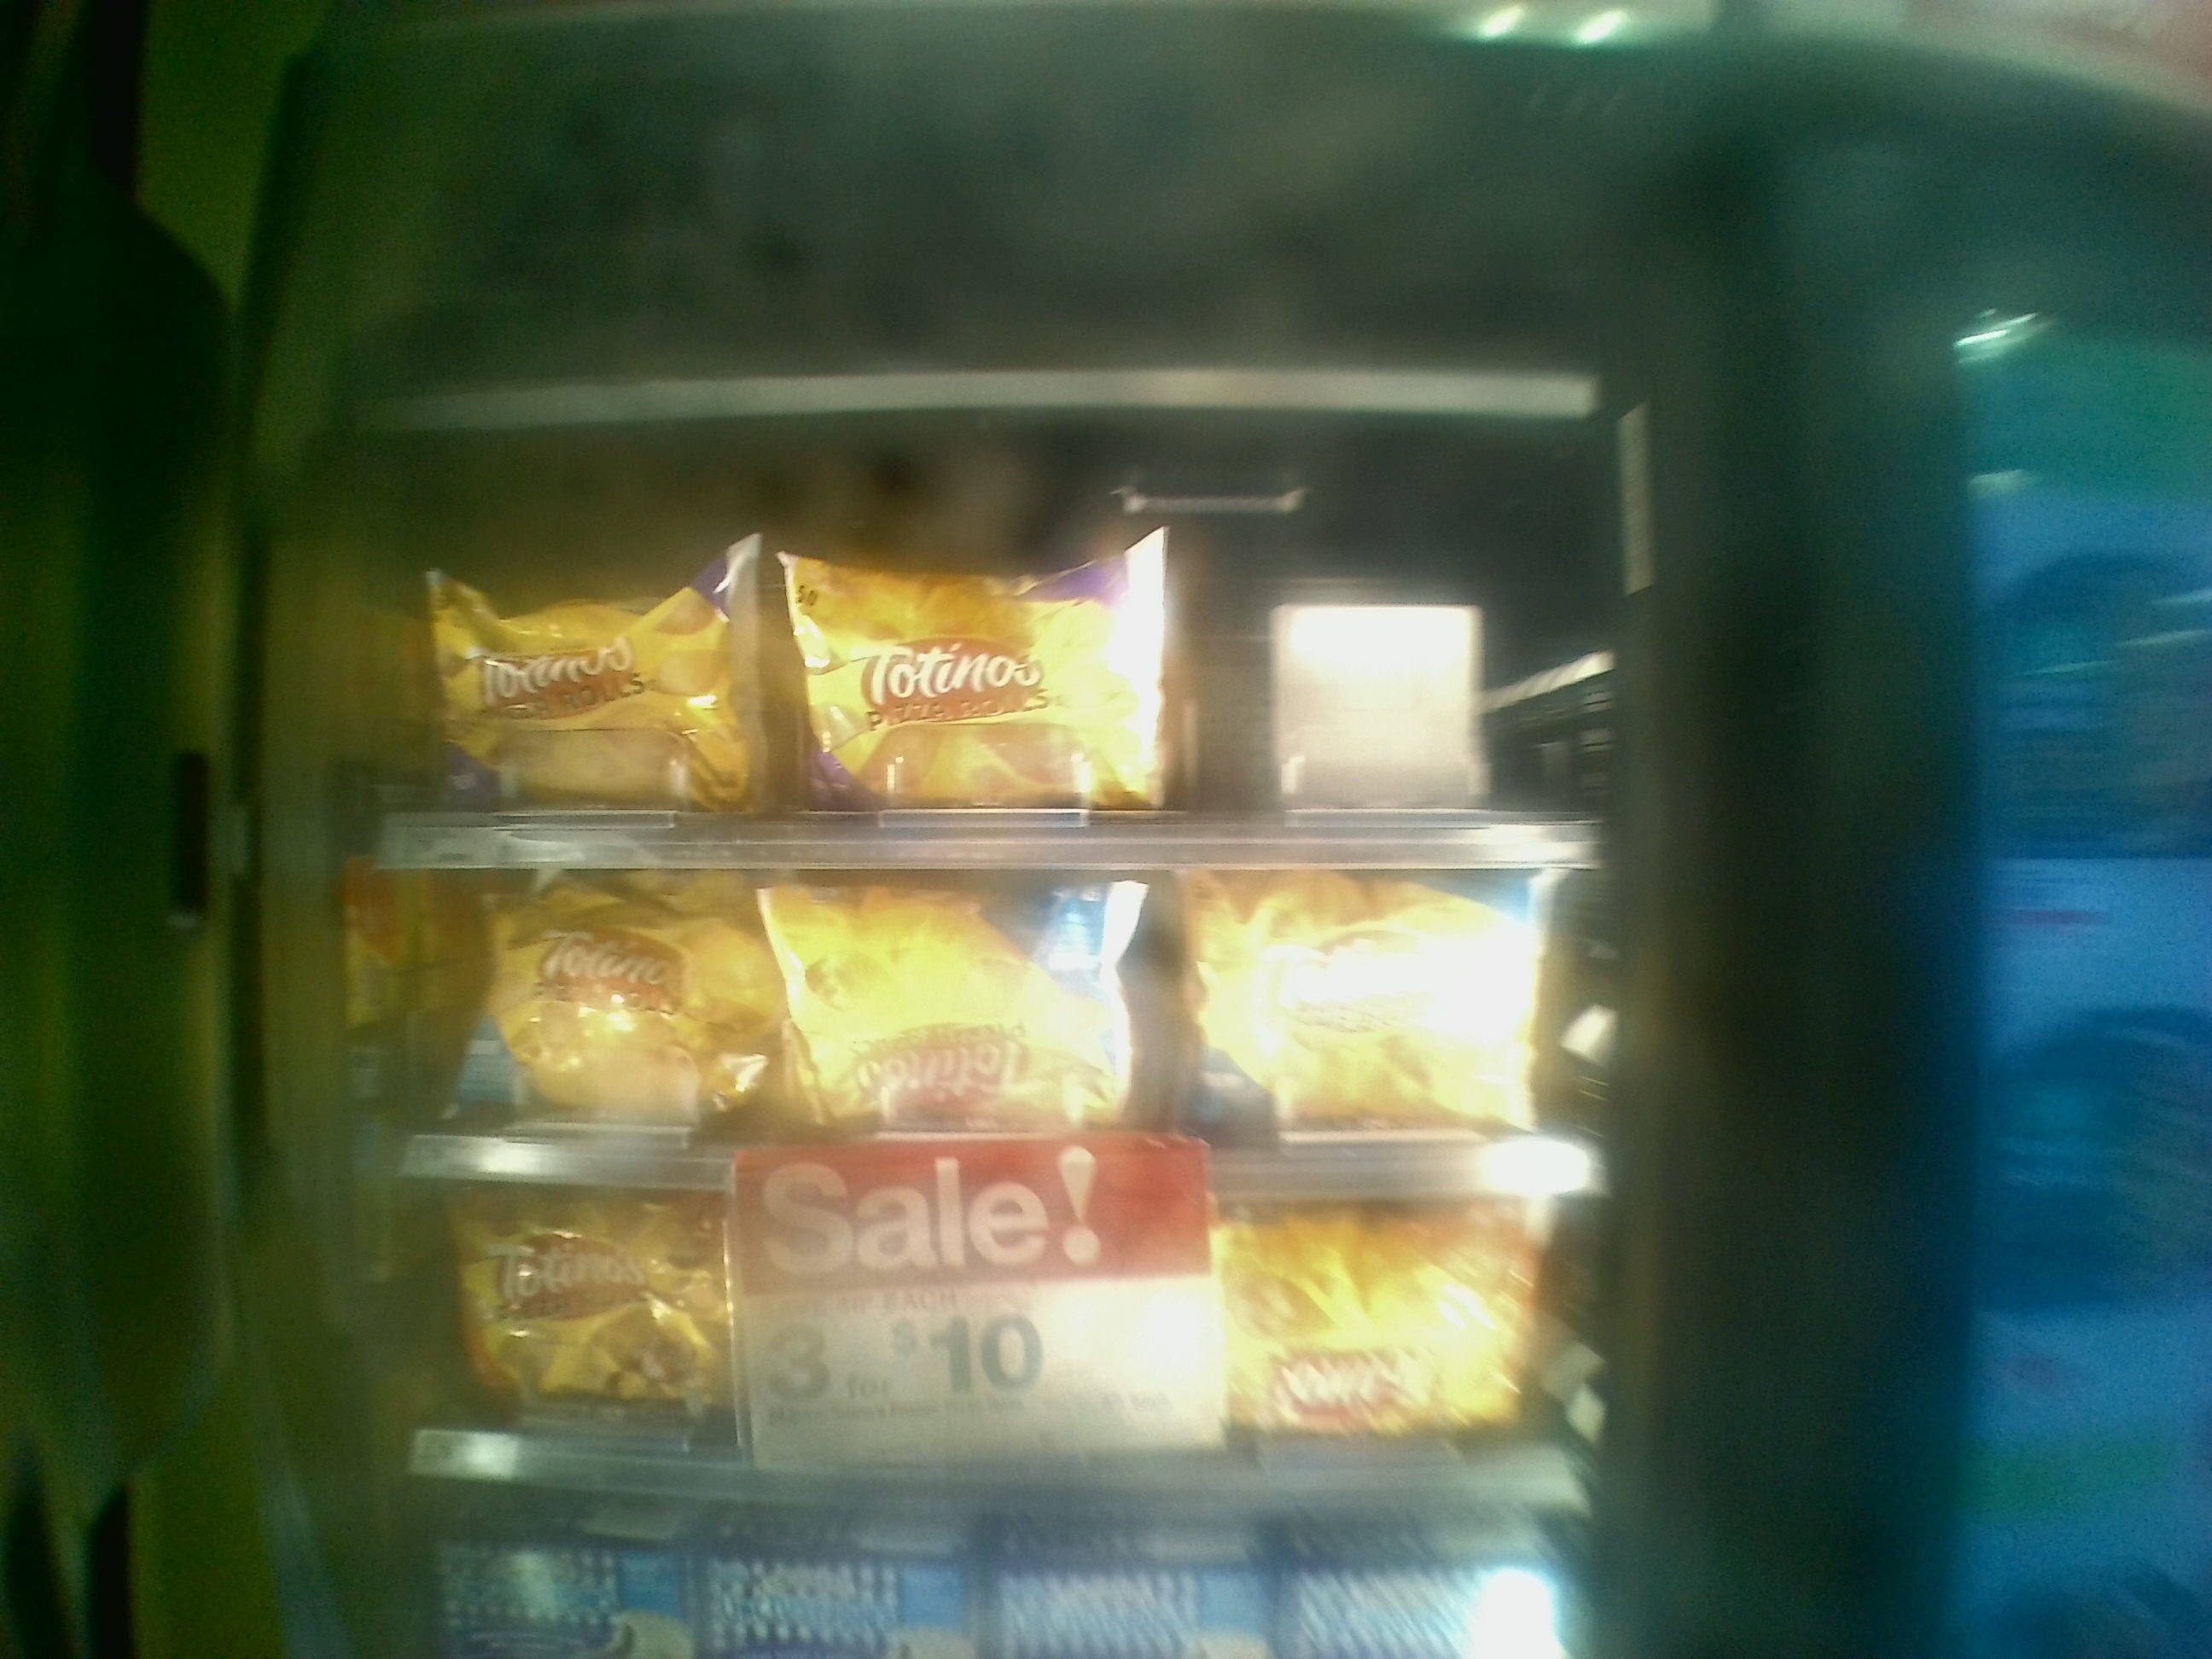shelf: (327, 1182, 1609, 1528), (338, 859, 1616, 1195)
